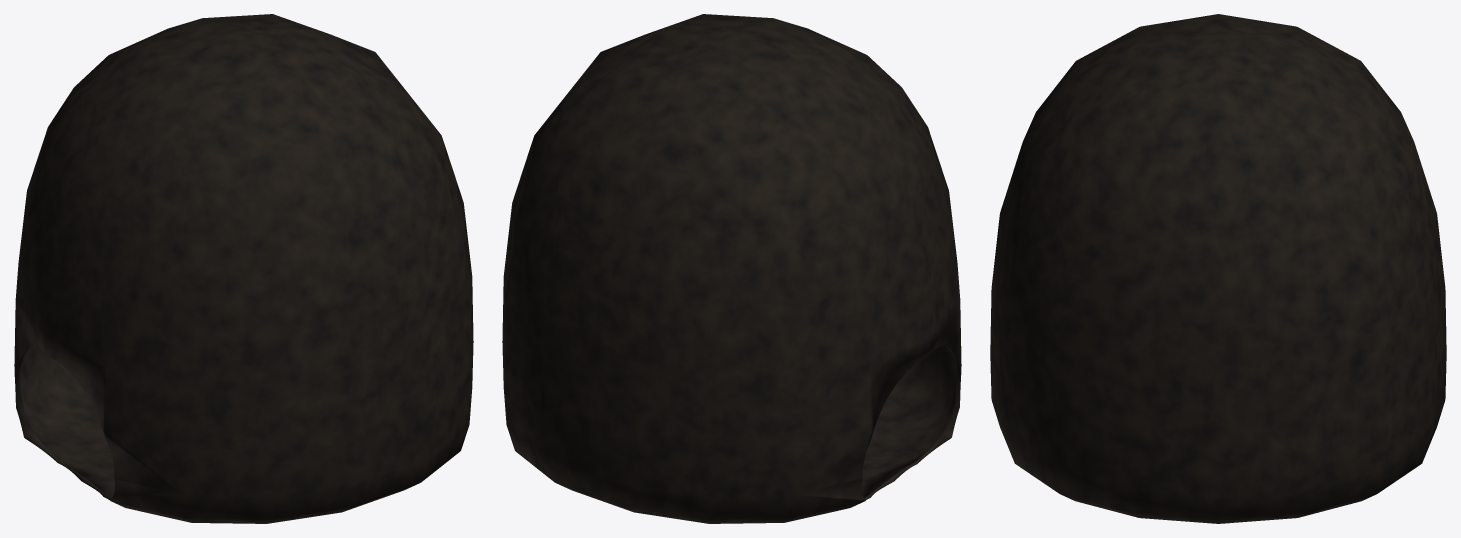
The model's file is Cave1_Test.fbx.
3 renders of one model, left to right at view 1: azimuth 30°, elevation 25°; view 2: azimuth 150°, elevation 25°; view 3: azimuth 270°, elevation 25°, orthographic.
Visible parts, largest first — view 1: Cube; view 2: Cube; view 3: Cube.
Boxes of the visible parts, box(x1,y1,x2,y2) form: Cube: box(14, 14, 473, 523); Cube: box(502, 14, 961, 523); Cube: box(990, 14, 1446, 523).
Size of the model in its own units: 2745 by 2759 by 2750.
Materials: 1 (1 with a texture image).
